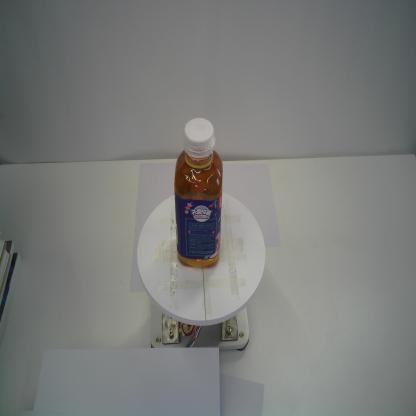Drink: (174, 117, 224, 270)
